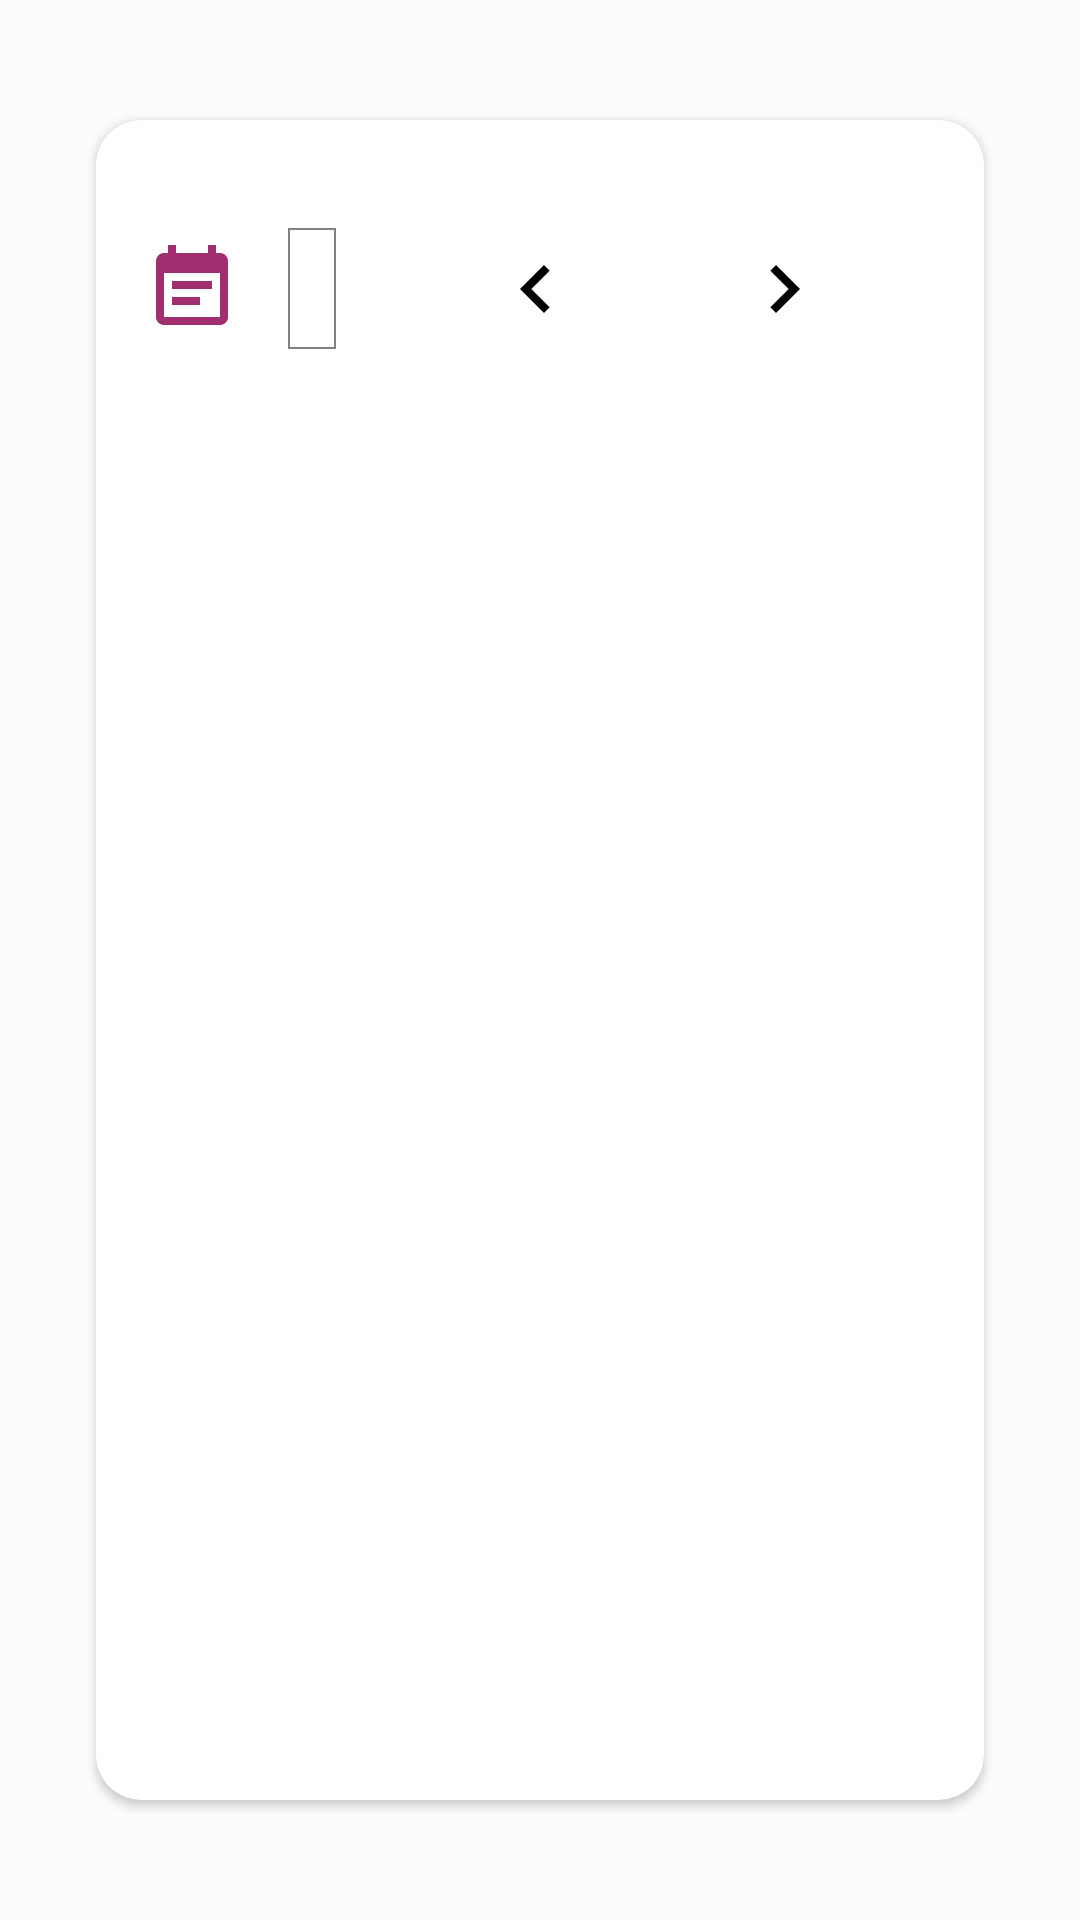

Screen size 1080px×1920px. Icon name, then its center in pixels as [x,y]:
event note: [192,285]
keyboard arrow left: [535,289]
keyboard arrow right: [785,289]
